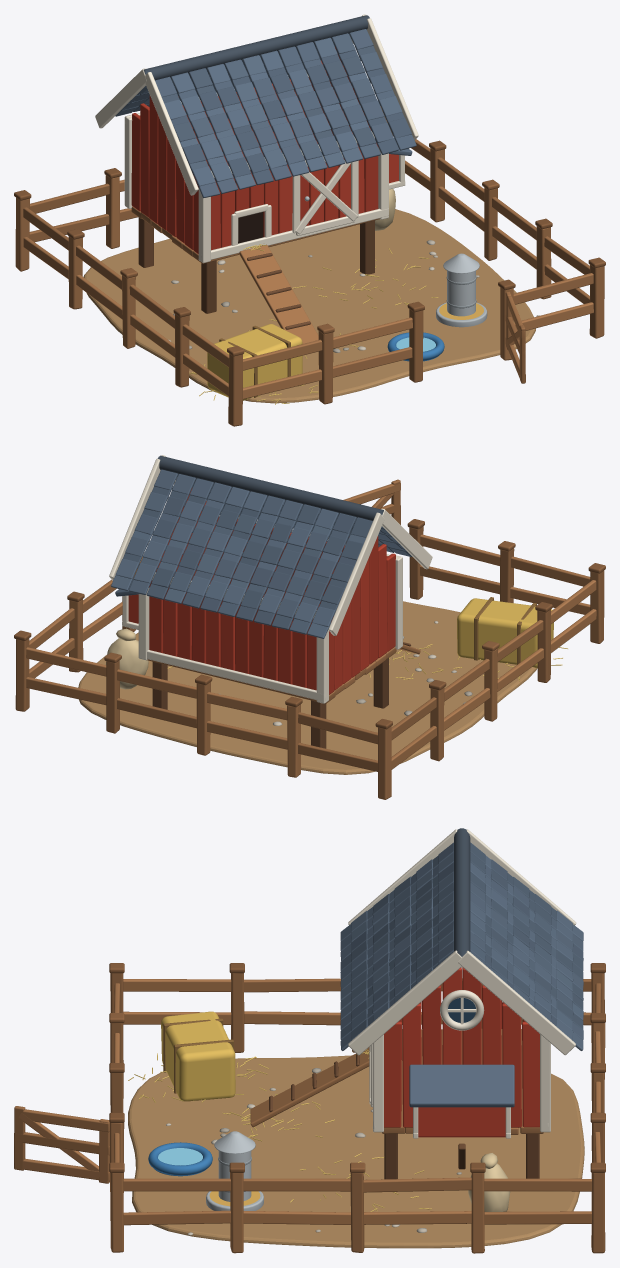
File: coop.fbx
3 renders of one model, top to bottom at view 1: azimuth 30°, elevation 25°; view 2: azimuth 150°, elevation 25°; view 3: azimuth 270°, elevation 25°, orthographic. The views are drawn at different scales.
Parts seen in each view (by area): view 1: coop; view 2: coop; view 3: coop.
Part boxes in pixels (box(x1,y1,x2,y2)): coop: box(14, 14, 605, 426); coop: box(14, 455, 605, 799); coop: box(14, 828, 605, 1253).
Bounding box in the file's own units: 2.69 × 1.57 × 3.26.
